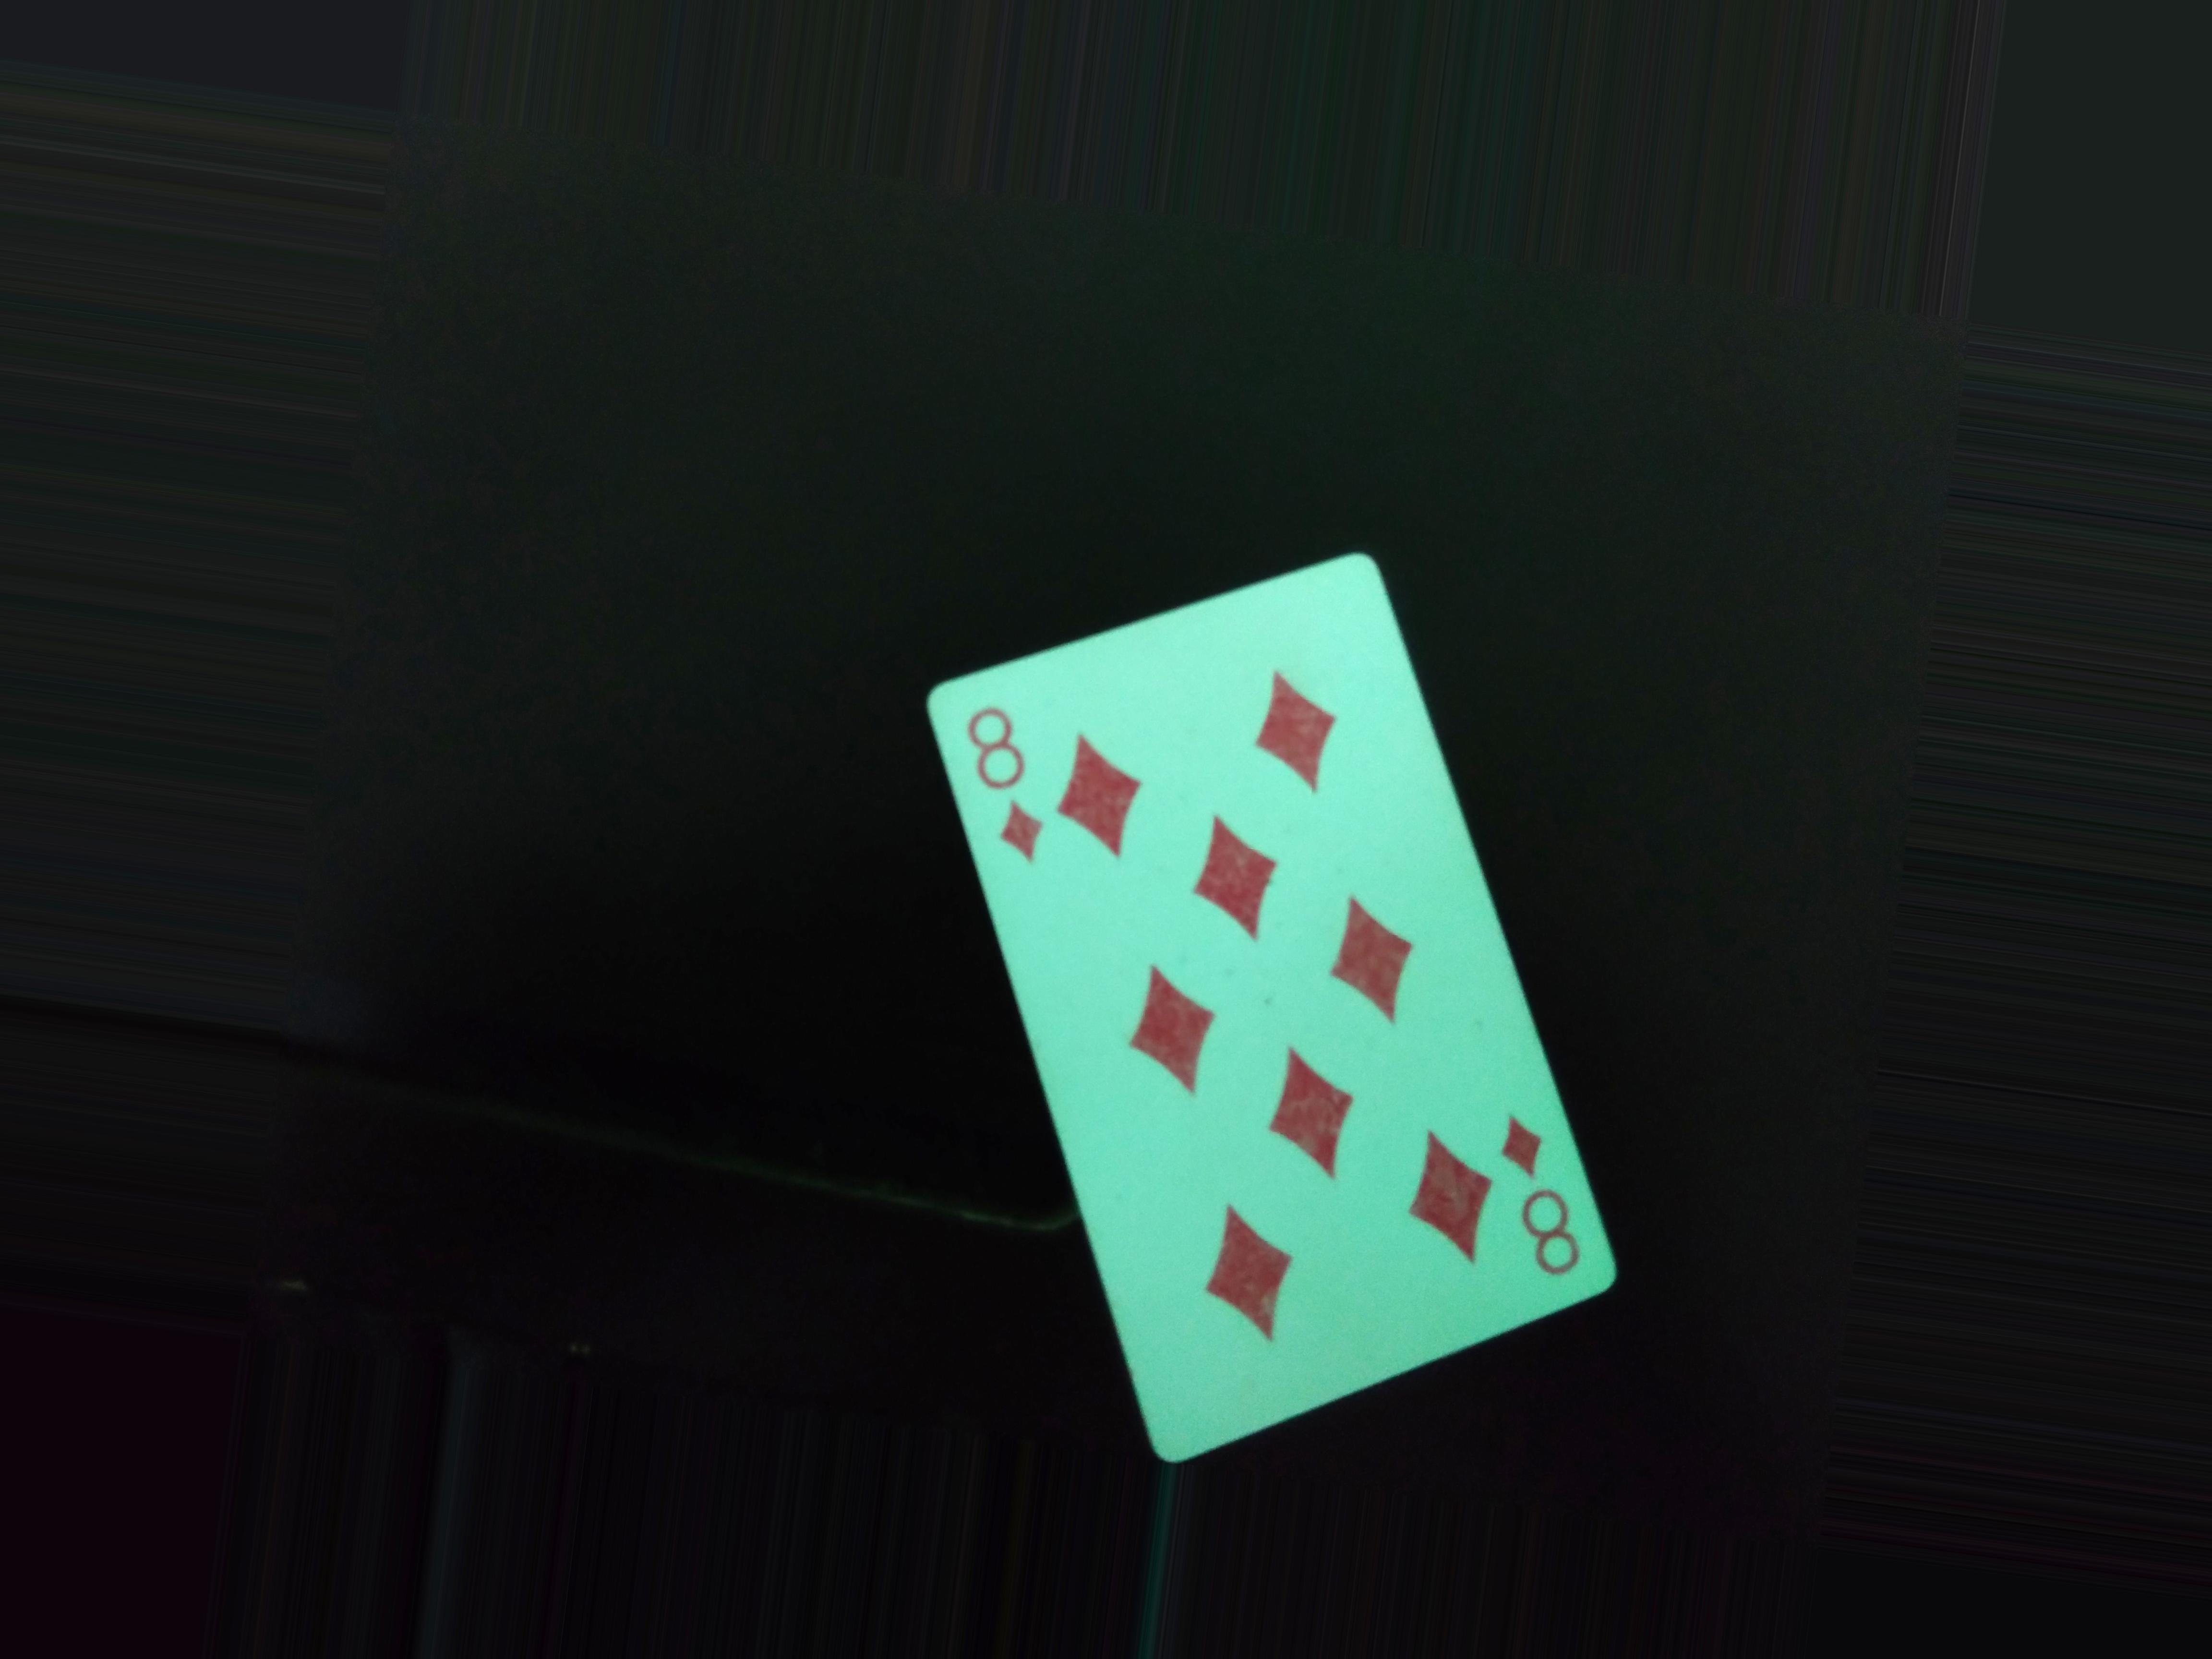8D: (956, 687, 1090, 878)
